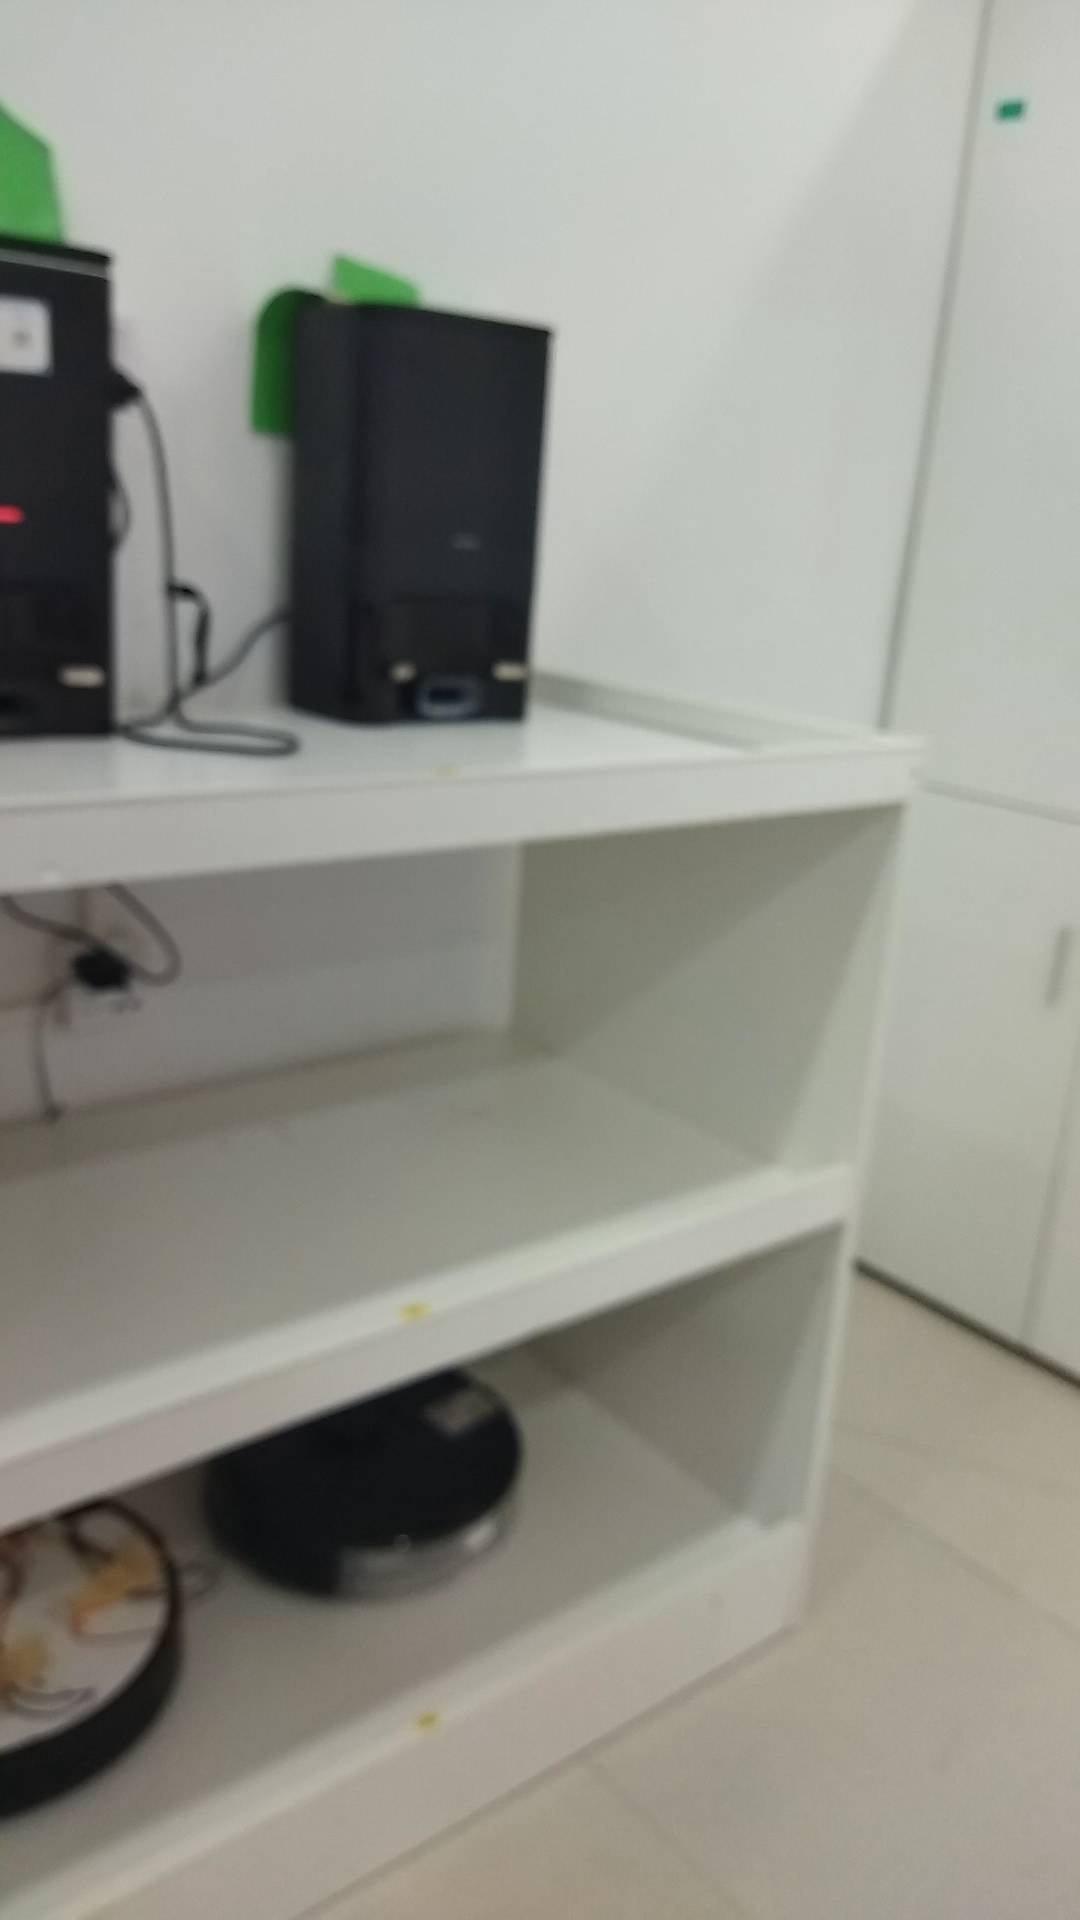dust collecting barrel: (280, 301, 554, 732), (1, 225, 127, 745)
